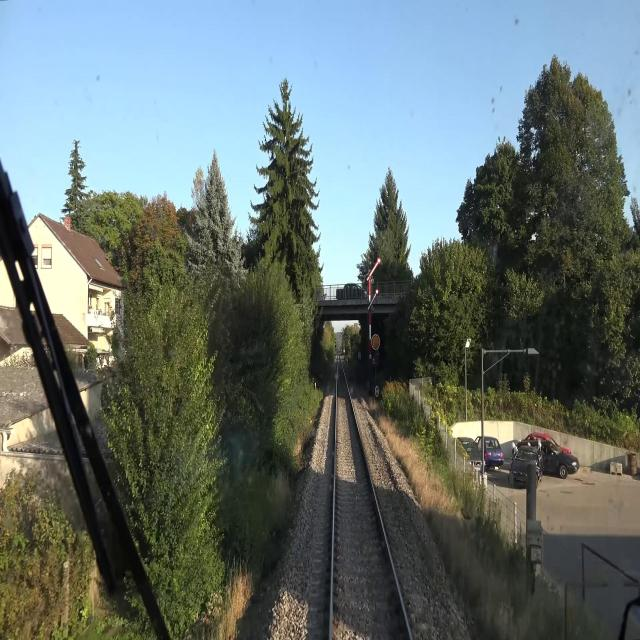rail-track: (333, 361, 407, 639)
